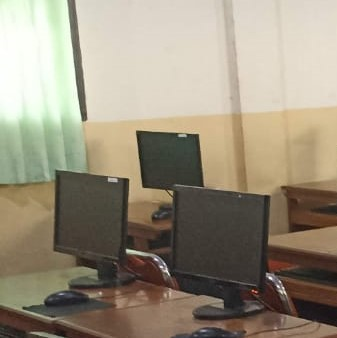monitor: (170, 185, 271, 303), (53, 169, 129, 266), (136, 130, 205, 191)
